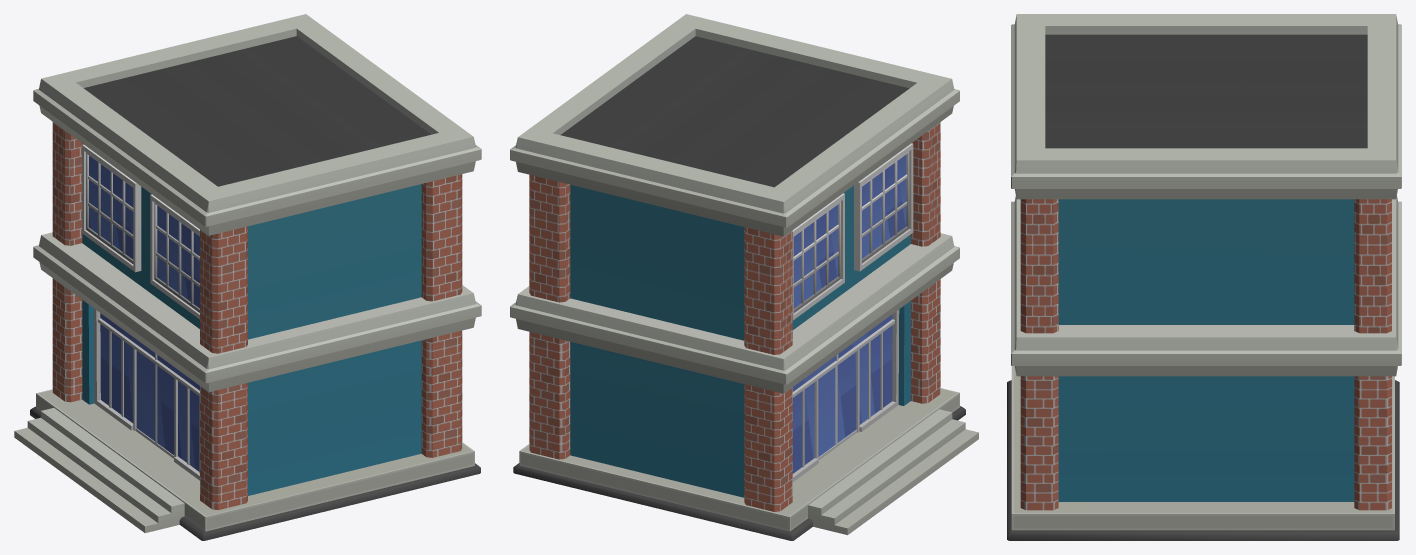
The model's file is Building_9_2_C.glb.
3 views of the same model, side by side, from view 1: azimuth 30°, elevation 25°; view 2: azimuth 150°, elevation 25°; view 3: azimuth 270°, elevation 25° (orthographic). The views are drawn at different scales.
Parts seen in each view (by area): view 1: Building_9_2_C; view 2: Building_9_2_C; view 3: Building_9_2_C.
Boxes of the visible parts, x1,y1,x2,y2 form: Building_9_2_C: [14, 14, 481, 540]; Building_9_2_C: [510, 14, 978, 540]; Building_9_2_C: [1007, 14, 1401, 540].
Bounding box in the file's own units: 9.47 × 9.58 × 9.06.
Materials: 4 (4 with a texture image).
